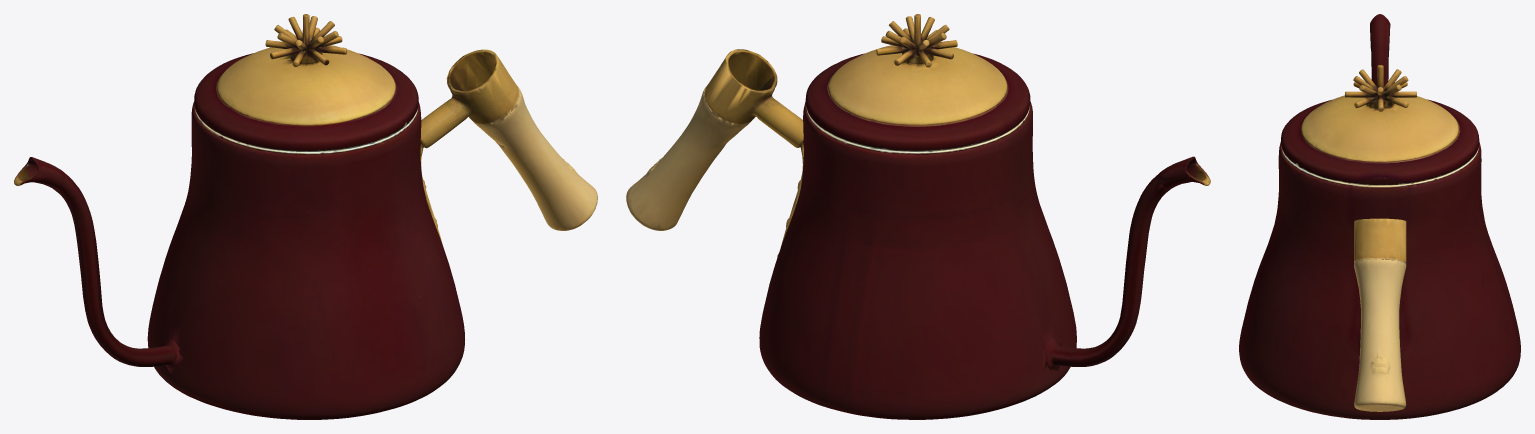
Rendered from chaleira.glb.
3 views of the same model, side by side, from view 1: azimuth 30°, elevation 25°; view 2: azimuth 150°, elevation 25°; view 3: azimuth 270°, elevation 25° (orthographic). The views are drawn at different scales.
Visible parts, largest first — view 1: tripo_node_35c521ba-1b16-4de6-8bad-5c4629144a96; view 2: tripo_node_35c521ba-1b16-4de6-8bad-5c4629144a96; view 3: tripo_node_35c521ba-1b16-4de6-8bad-5c4629144a96.
Part boxes in pixels (left/top/right/bottom): tripo_node_35c521ba-1b16-4de6-8bad-5c4629144a96: left=14, top=14, right=597, bottom=419; tripo_node_35c521ba-1b16-4de6-8bad-5c4629144a96: left=626, top=14, right=1210, bottom=419; tripo_node_35c521ba-1b16-4de6-8bad-5c4629144a96: left=1239, top=14, right=1520, bottom=419.
Size of the model in its own units: 0.9806 by 0.5567 by 0.4718.
Materials: 1 (1 with a texture image).
